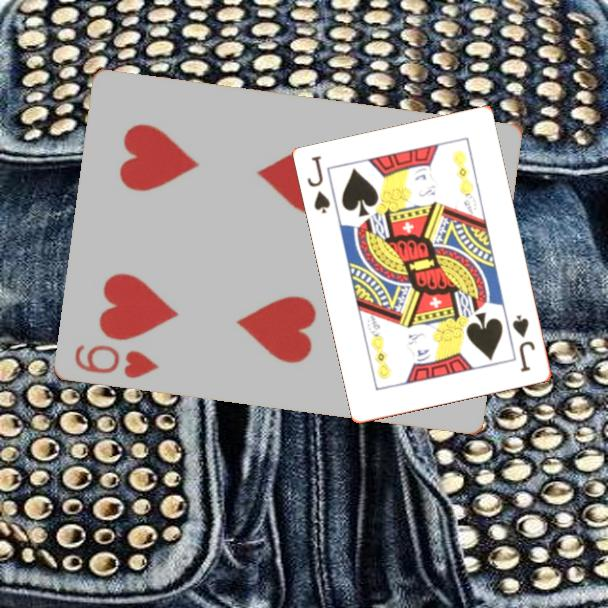h06: (71, 340, 163, 381)
s11: (304, 152, 334, 217), (509, 311, 538, 375)
